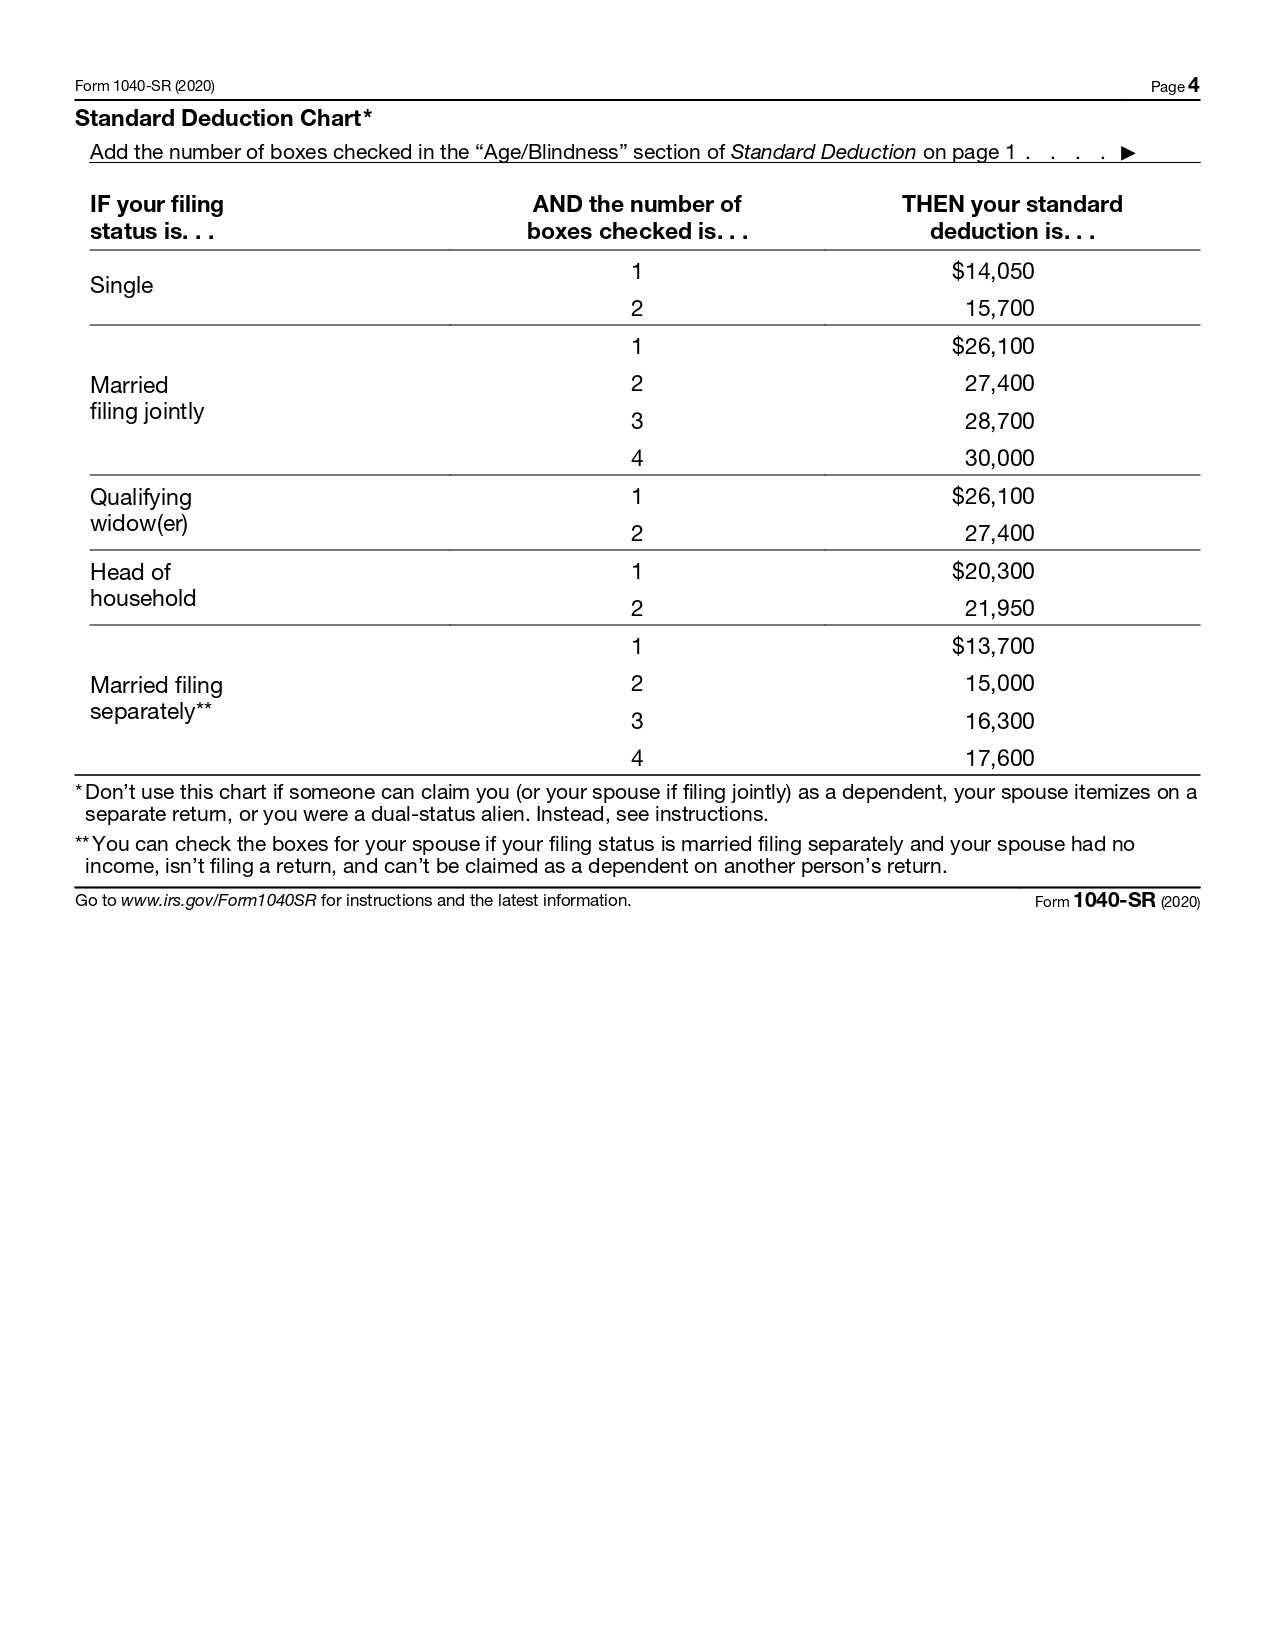table: (74, 181, 1215, 775)
